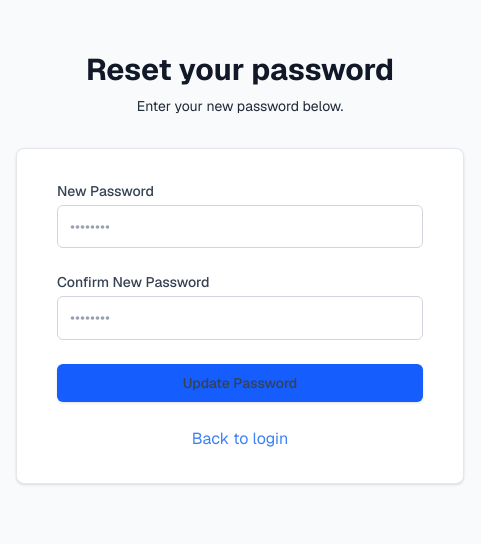
Test case: Reset Password Flow End-to-End › validates password minimum length
Note: Fill in password that's too short
Type "123" into the password field labelled "New Password". click: (240, 226)
box: [57, 205, 423, 248]
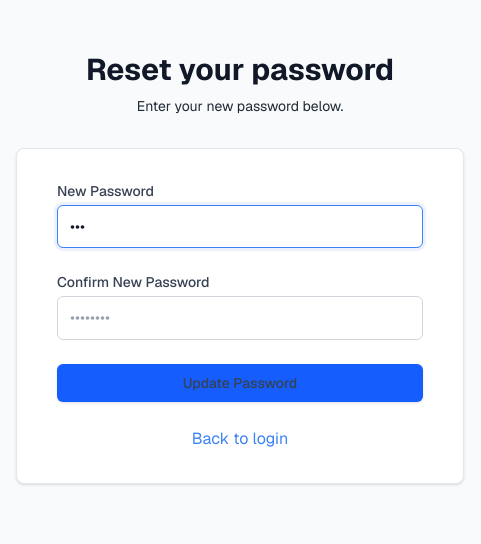
Type "123" into the password field labelled "Confirm New Password". click: (240, 318)
box: [57, 296, 423, 340]
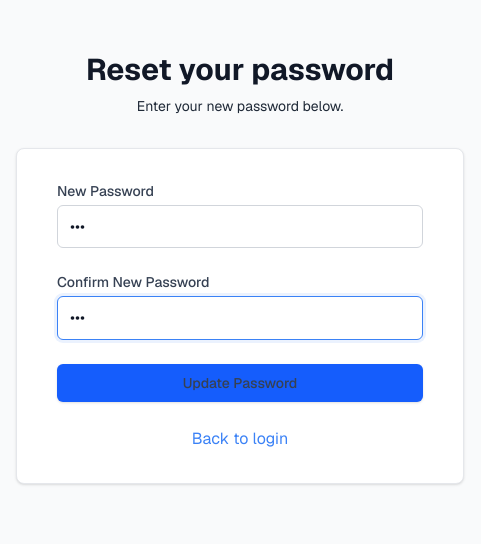
Click the button "Update Password". click: (240, 383)
box: [57, 364, 423, 402]
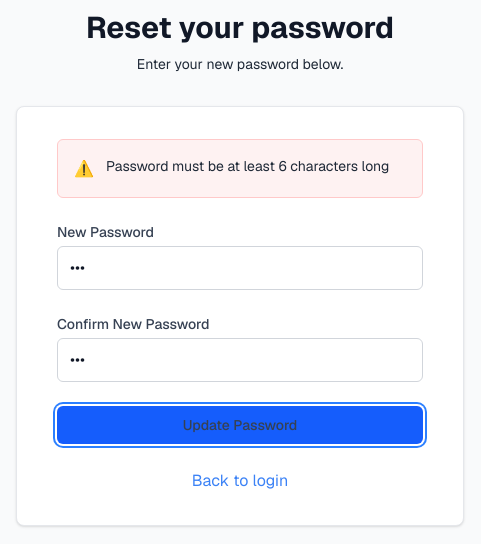
Result: the text "Password must be at least 6 characters long" is shown at [106, 156, 389, 176]
Result: the text "⚠️" is shown at [74, 158, 94, 179]
